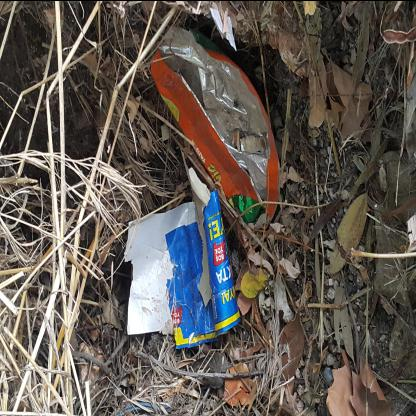kagit: (186, 174, 350, 292)
plastik: (22, 134, 233, 266)
